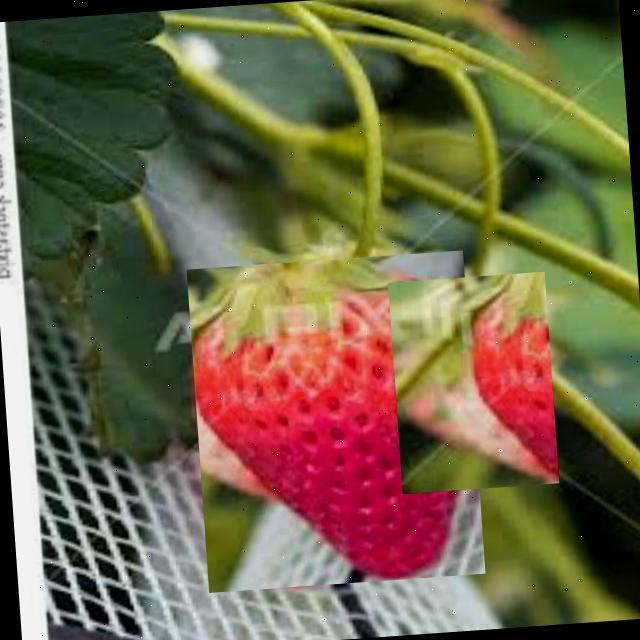ripe: (186, 250, 485, 592)
unripe: (388, 271, 558, 494)
